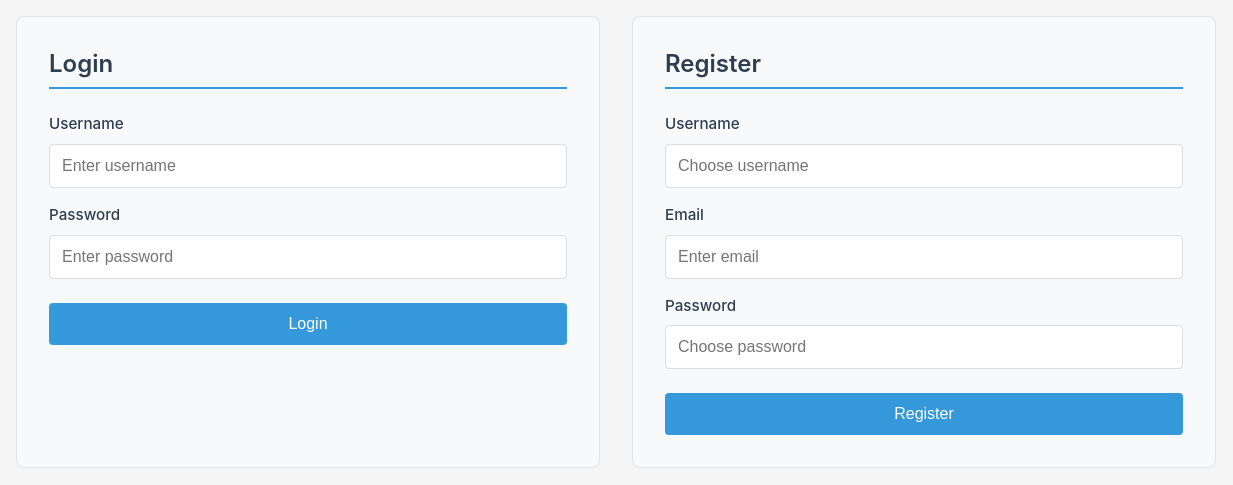
AuthComponent › displays error message on failed login
// Fill in login form
Type "testuser" into the field with id "login-username". click: (308, 166)
box: top-left (49, 144), bottom-right (567, 188)
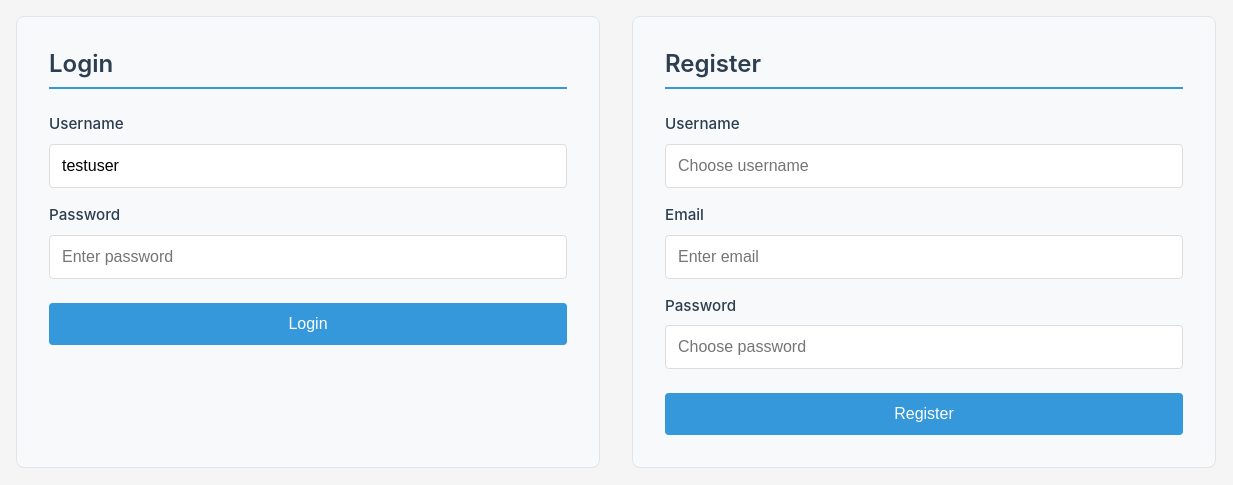
Type "wrongpass" into the password field with id "login-password". click: (308, 257)
box: top-left (49, 235), bottom-right (567, 279)
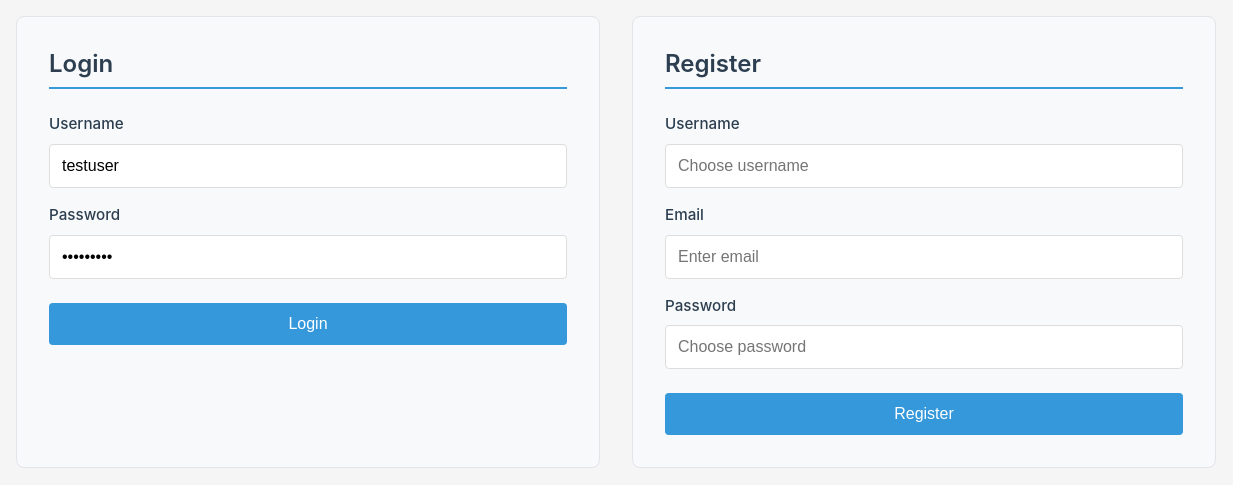
// Submit form
Submit the form with class "auth-form" showing "Username Password Login", box top-left (49, 113), bottom-right (567, 345)
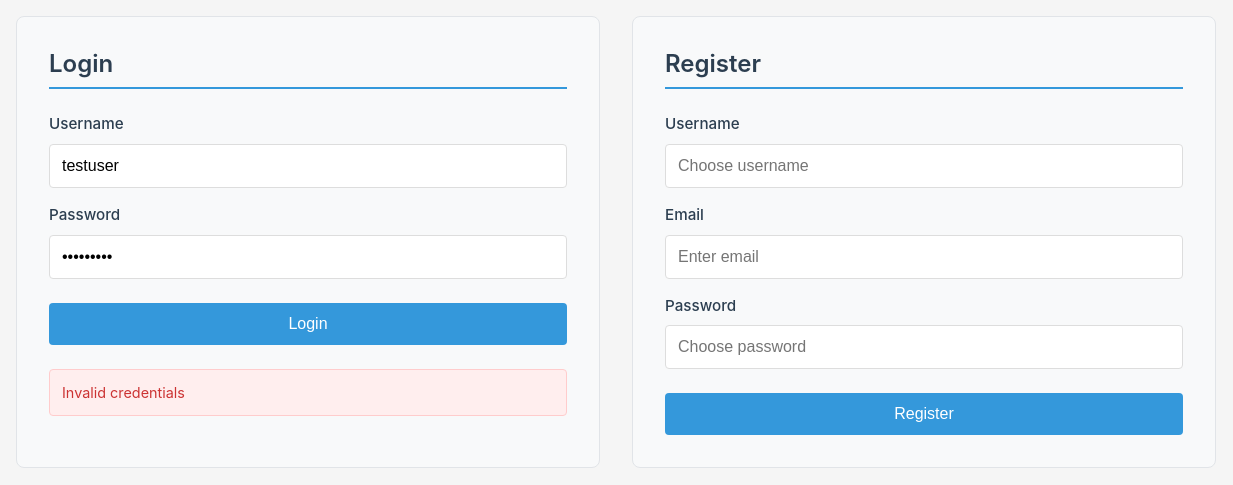
Expected: the text "Invalid credentials" is shown, top-left (49, 369), bottom-right (567, 416)
Expected: the text with class "error-message" reads "Invalid credentials", top-left (62, 384), bottom-right (185, 401)
